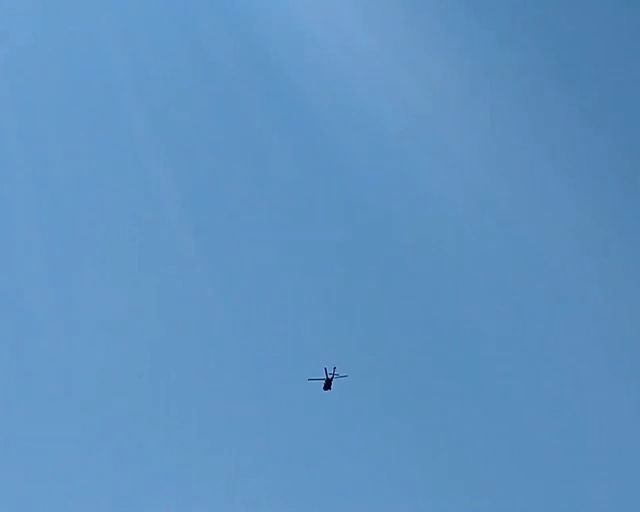HELICOPTER: (307, 365, 348, 391)
